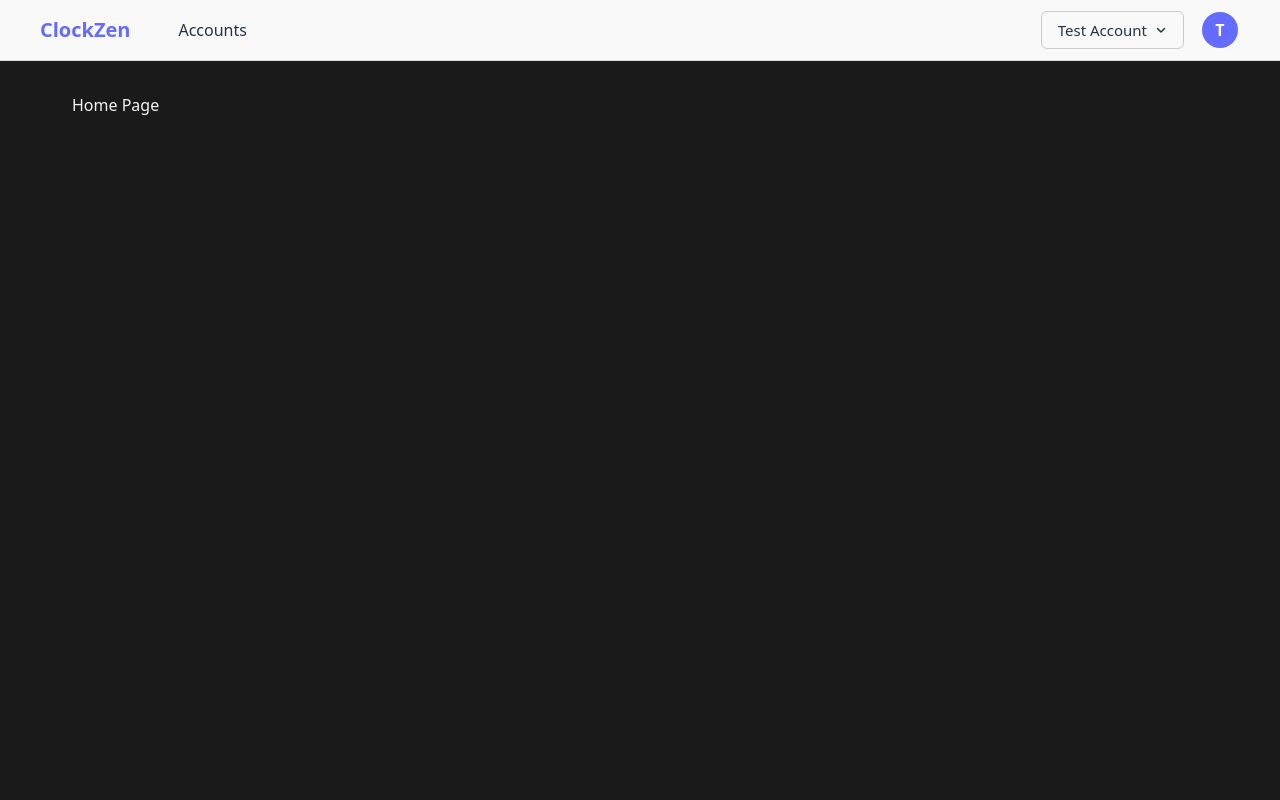
Test: Layout › User Menu › closes user menu when clicking outside
Click the button with class "user-menu-trigger" at point(1220, 30), box [1200, 10, 1240, 50]
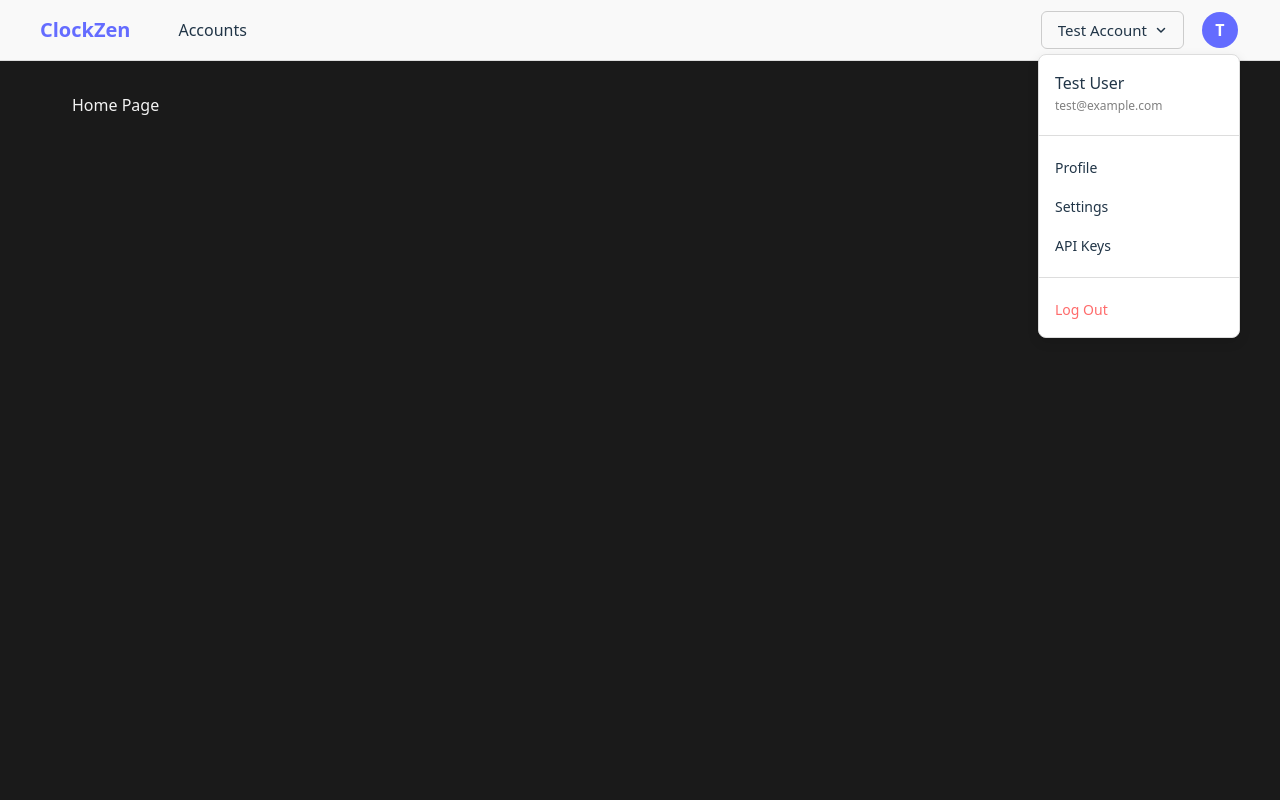
Expected: the menu item "Log Out" is shown, [1039, 290, 1239, 329]
Press the mouse on the element that starts with "Skip to main content" at point(640, 400), box [0, 0, 1279, 799]
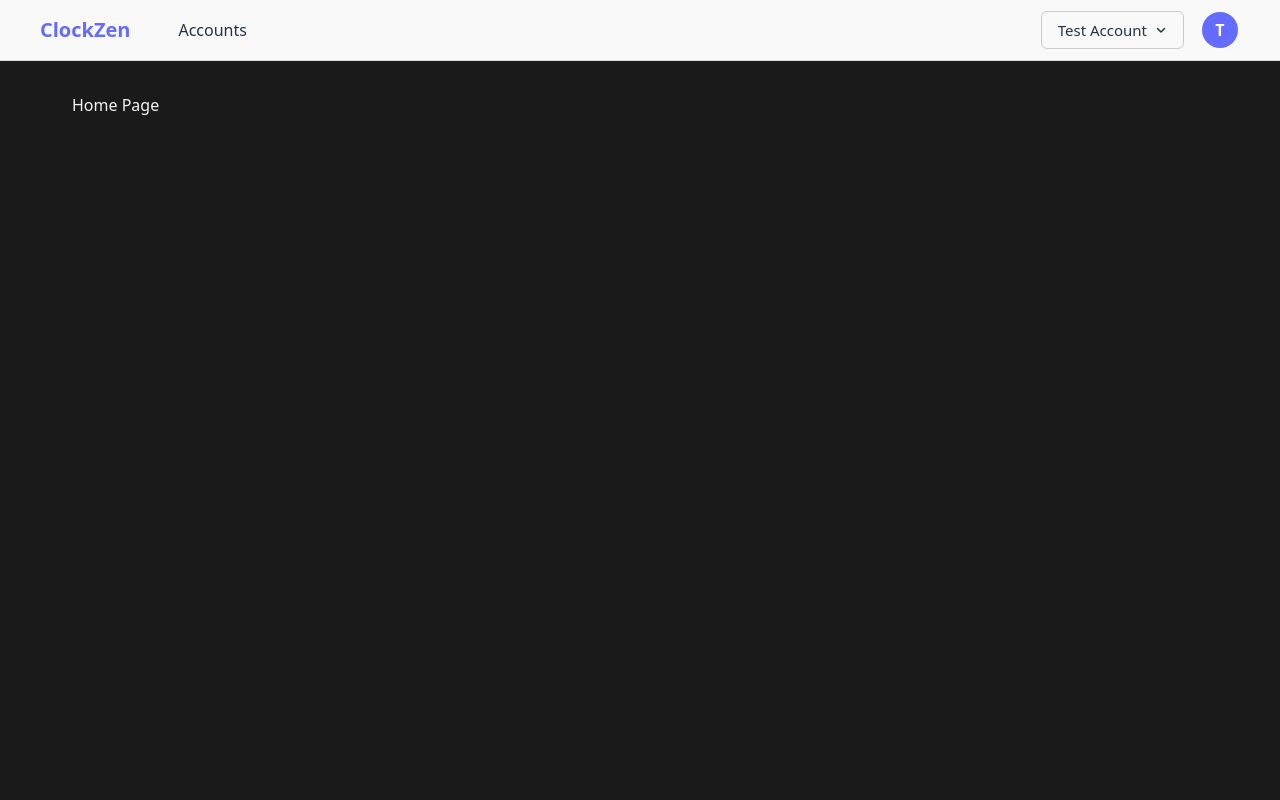
Expected: the menu item "Log Out" is gone
